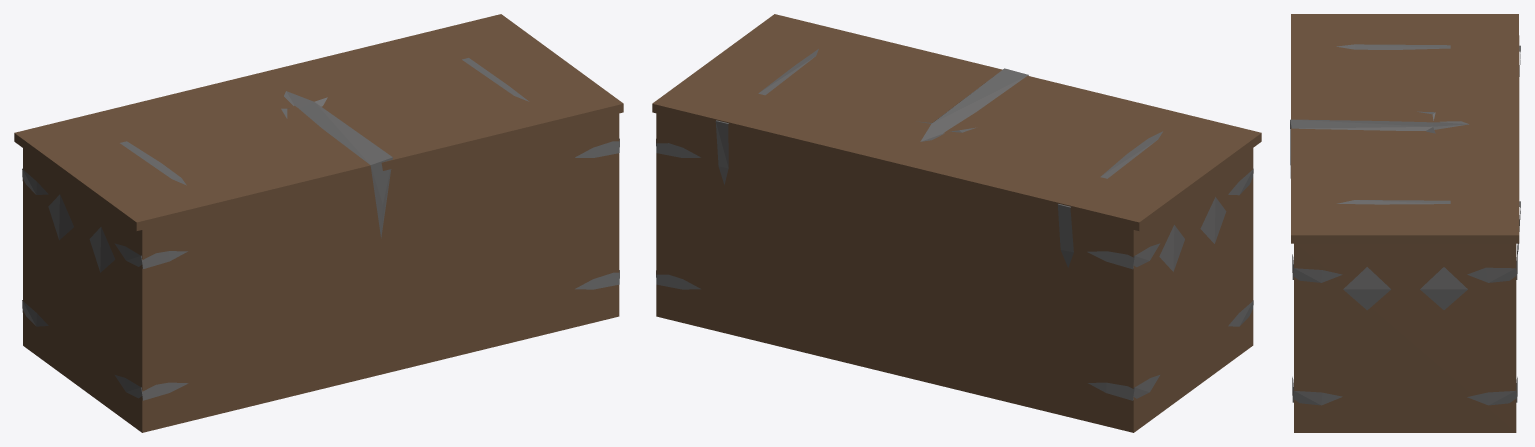
Rendered from medieval-chest-b.lod1.glb.
The picture shows the model from 3 angles, left to right: view 1: azimuth 30°, elevation 25°; view 2: azimuth 150°, elevation 25°; view 3: azimuth 270°, elevation 25°; orthographic projection. The views are drawn at different scales.
Parts seen in each view (by area): view 1: Medieval_Crate_LP_Material.001_0; view 2: Medieval_Crate_LP_Material.001_0; view 3: Medieval_Crate_LP_Material.001_0.
Part boxes in pixels (box(x1,y1,x2,y2)): Medieval_Crate_LP_Material.001_0: box(14, 14, 623, 432); Medieval_Crate_LP_Material.001_0: box(652, 14, 1261, 432); Medieval_Crate_LP_Material.001_0: box(1290, 14, 1520, 432).
Size of the model in its own units: 1.18 by 0.5022 by 0.5216.
